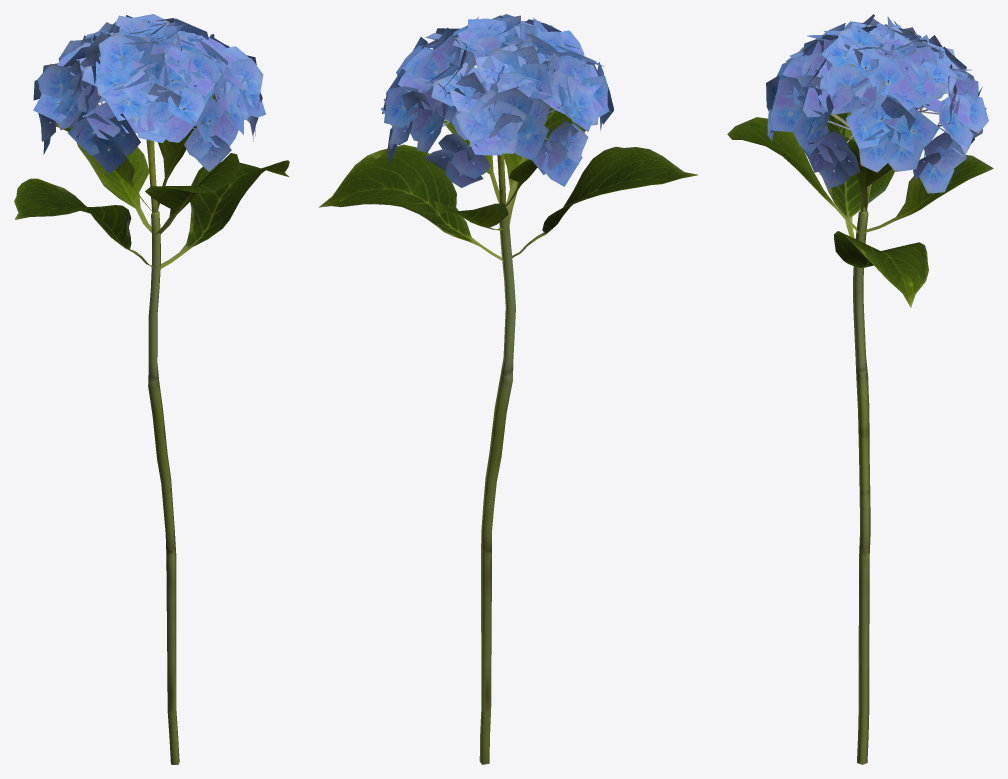
File: Hydrangea OG LONG DEEP BLUE.glb
The picture shows the model from 3 angles, left to right: view 1: azimuth 30°, elevation 25°; view 2: azimuth 150°, elevation 25°; view 3: azimuth 270°, elevation 25°; orthographic projection. The views are drawn at different scales.
Visible parts, largest first — view 1: Hydrangea; view 2: Hydrangea; view 3: Hydrangea.
Boxes of the visible parts, left/top/right/bottom form: Hydrangea: left=14, top=14, right=289, bottom=764; Hydrangea: left=318, top=14, right=698, bottom=764; Hydrangea: left=727, top=14, right=993, bottom=764.
Bounding box in the file's own units: 1.38 × 2.99 × 1.
Materials: 1 (1 with a texture image).
